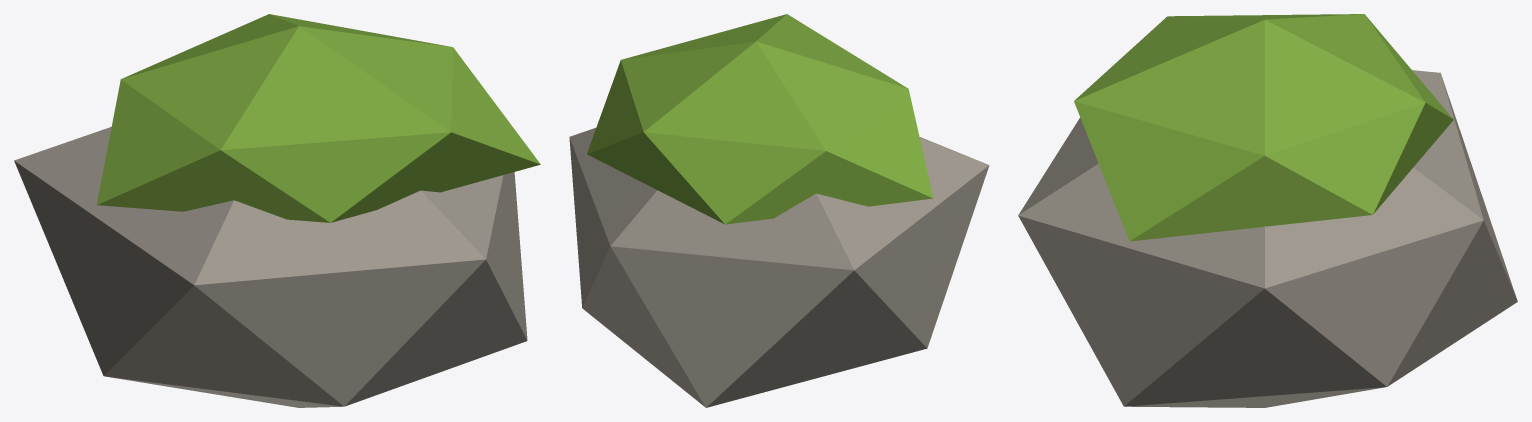
The model's file is HS_LP_Rock_Small_Moss_02.fbx.
3 views of the same model, side by side, from view 1: azimuth 30°, elevation 25°; view 2: azimuth 150°, elevation 25°; view 3: azimuth 270°, elevation 25° (orthographic). The views are drawn at different scales.
Parts seen in each view (by area): view 1: HS_LP_Rock_Small_Moss_02; view 2: HS_LP_Rock_Small_Moss_02; view 3: HS_LP_Rock_Small_Moss_02.
Boxes of the visible parts, x1,y1,x2,y2 form: HS_LP_Rock_Small_Moss_02: (14,14,540,407); HS_LP_Rock_Small_Moss_02: (569,14,989,407); HS_LP_Rock_Small_Moss_02: (1018,14,1517,407).
Bounding box in the file's own units: 45.48 × 39.98 × 46.63.
